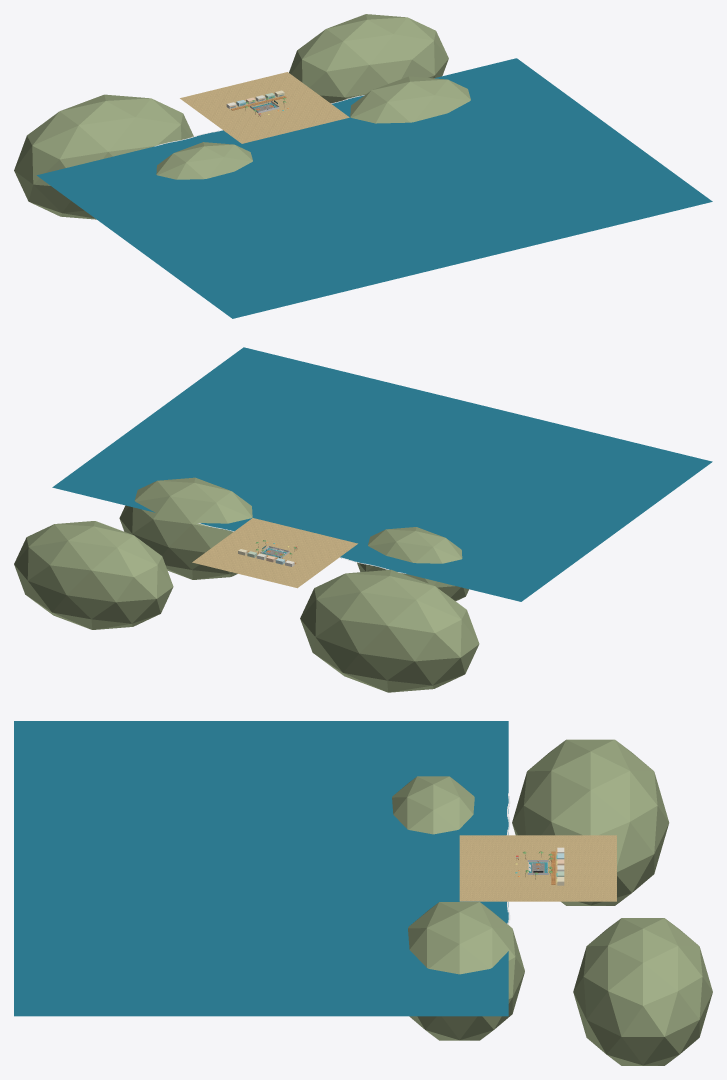
File: coastline.glb
The picture shows the model from 3 angles, top to bottom: view 1: azimuth 30°, elevation 25°; view 2: azimuth 150°, elevation 25°; view 3: azimuth 270°, elevation 25°; orthographic projection. The views are drawn at different scales.
Parts seen in each view (by area): view 1: Ocean, Headlands, Ground_Asphalt; view 2: Ocean, Headlands, Ground_Asphalt; view 3: Ocean, Headlands, Ground_Asphalt.
Part boxes in pixels (x1,y1,x2,y2): Ocean: [37, 58, 712, 318]; Headlands: [14, 14, 470, 219]; Ground_Asphalt: [180, 72, 349, 143]; Ocean: [52, 347, 712, 601]; Headlands: [14, 477, 479, 692]; Ground_Asphalt: [192, 518, 357, 588]; Ocean: [14, 721, 508, 1016]; Headlands: [392, 739, 712, 1065]; Ground_Asphalt: [459, 835, 616, 901].
Bounding box in the file's own units: 800 × 180 × 800.
44 materials, 7 textured.
